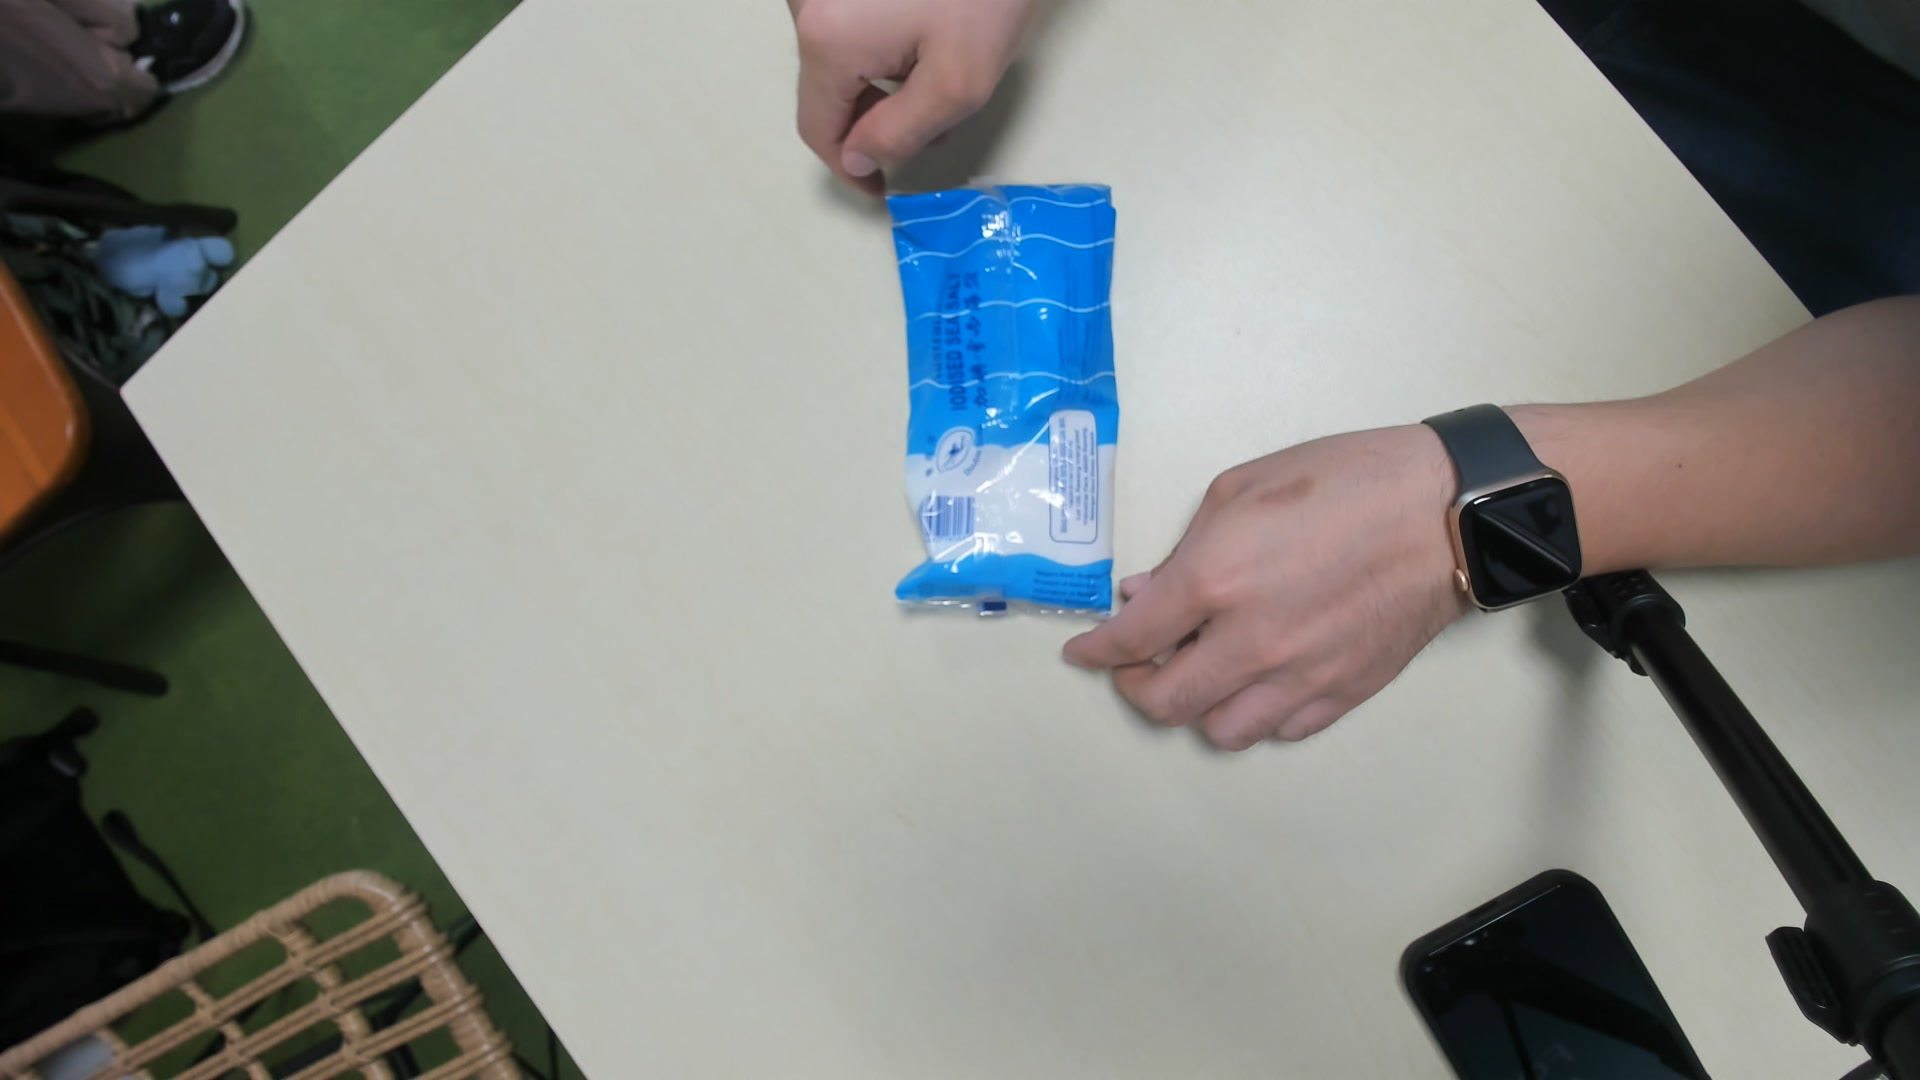Salt_300-399g_NonHalal_NonHealthy: (884, 185, 1120, 624)
